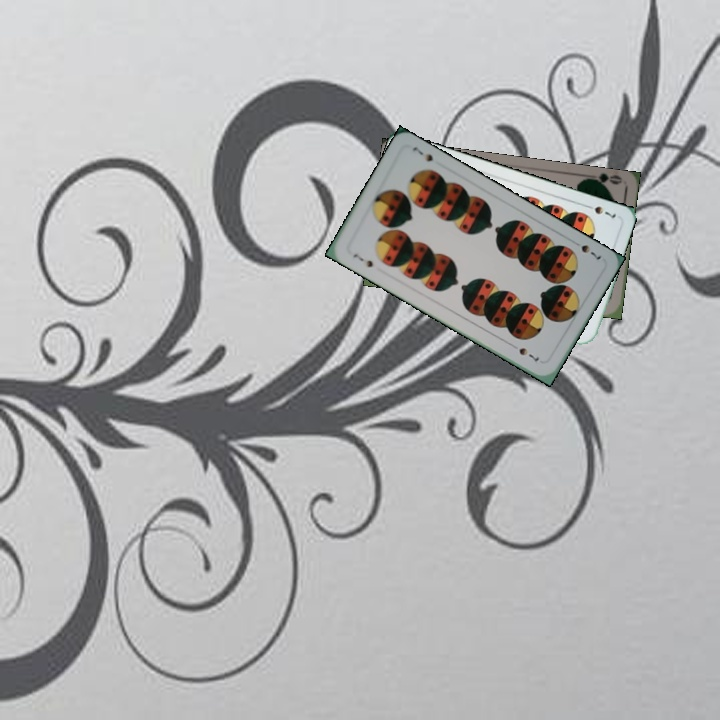GO: (582, 170, 623, 191)
S7: (568, 237, 604, 262), (580, 201, 619, 221), (349, 249, 376, 270)
